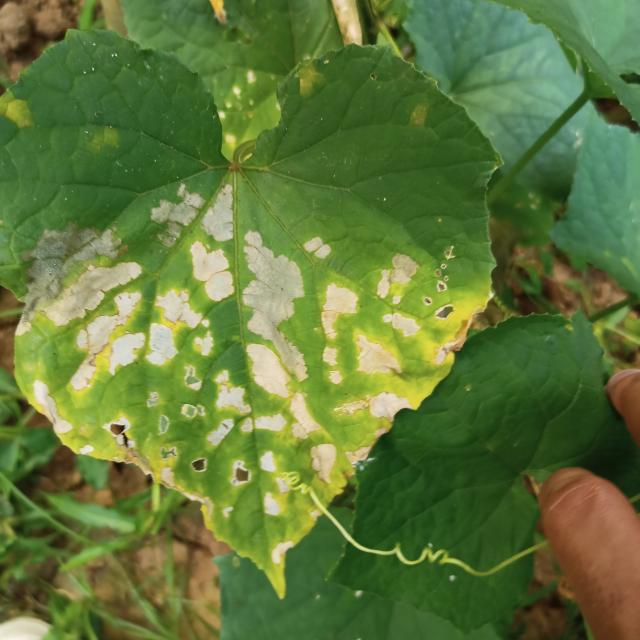disease_cucumber: (12, 178, 446, 556), (1, 90, 37, 140)
